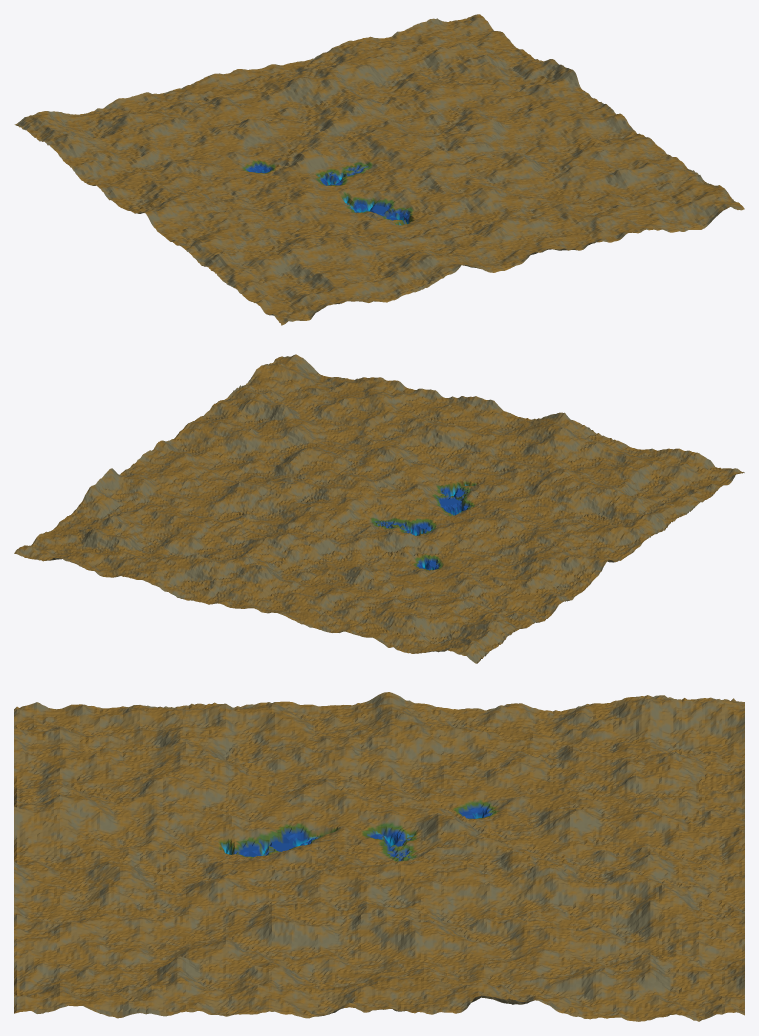
Rendered from terrain_RIVERr.obj.
3 renders of one model, top to bottom at view 1: azimuth 30°, elevation 25°; view 2: azimuth 150°, elevation 25°; view 3: azimuth 270°, elevation 25°, orthographic. The views are drawn at different scales.
Visible parts, largest first — view 1: RIVERr; view 2: RIVERr; view 3: RIVERr.
Boxes of the visible parts, <box> form: RIVERr: <box>14,14,744,325</box>; RIVERr: <box>14,354,744,663</box>; RIVERr: <box>14,692,744,1021</box>.
Bounding box in the file's own units: 255 × 23.15 × 255.
Materials: 1 (1 with a texture image).
